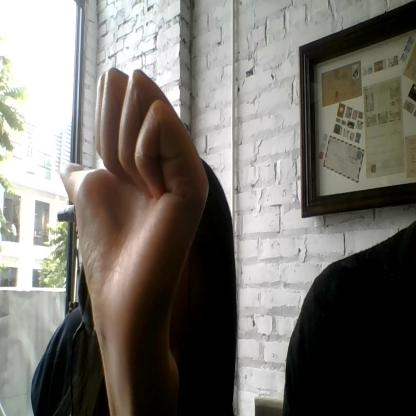right: (59, 68, 209, 325)
